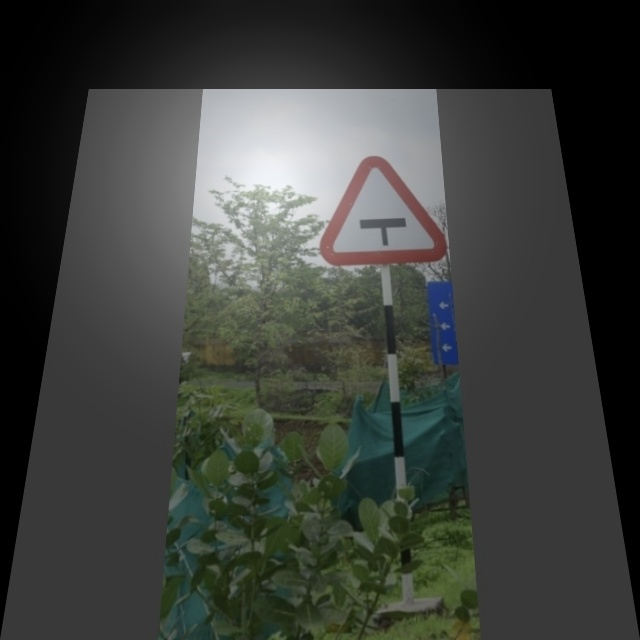T_Intersection: (325, 155, 442, 260)
